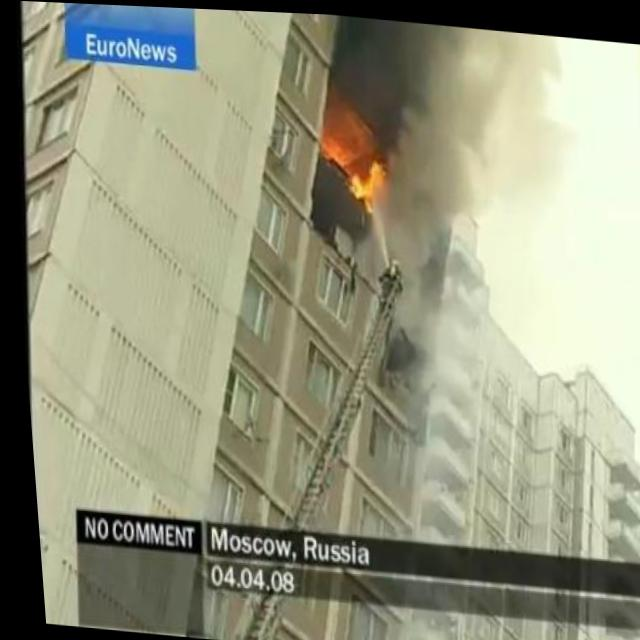fire: (341, 143, 391, 214)
